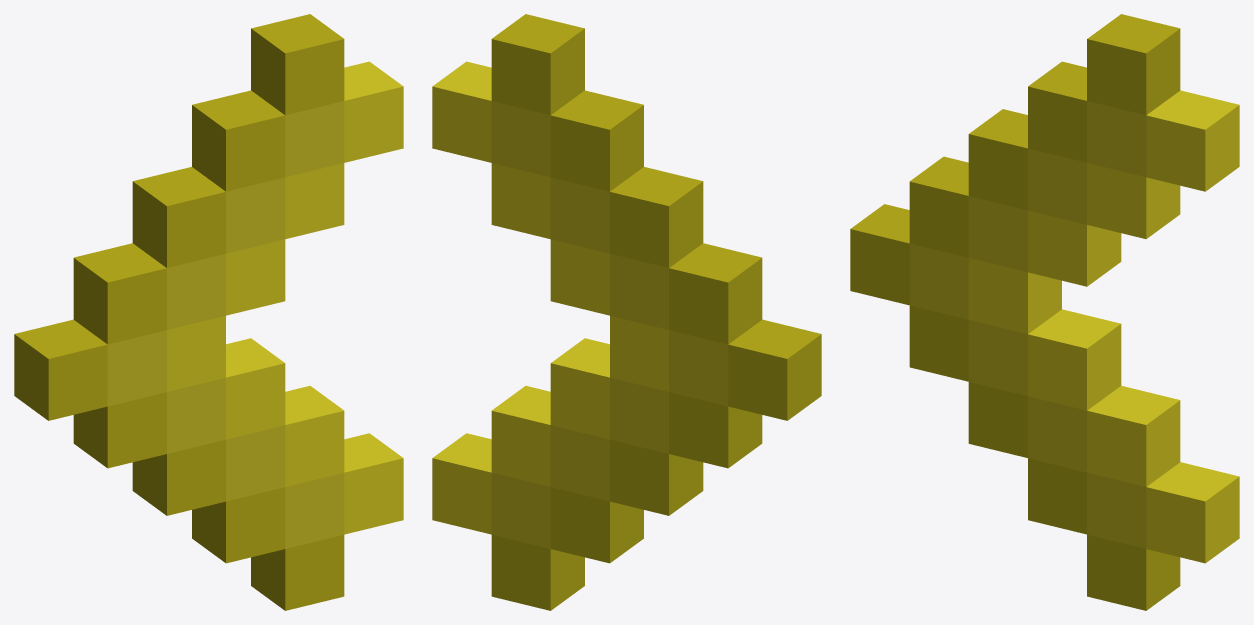
The model's file is bar-7.obj.
The picture shows the model from 3 angles, left to right: view 1: azimuth 30°, elevation 25°; view 2: azimuth 150°, elevation 25°; view 3: azimuth 330°, elevation 25°; orthographic projection.
Size of the model in its own units: 0.6 by 0.9 by 0.1.
Materials: 1 (1 with a texture image).
